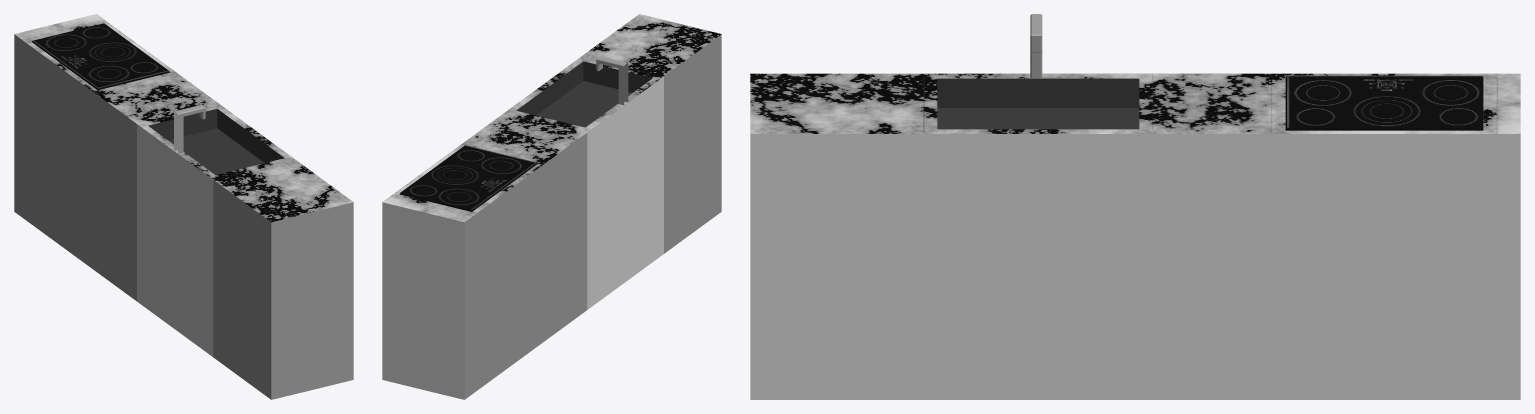
File: kitchen_sink.fbx
The picture shows the model from 3 angles, left to right: view 1: azimuth 30°, elevation 25°; view 2: azimuth 150°, elevation 25°; view 3: azimuth 270°, elevation 25°; orthographic projection. The views are drawn at different scales.
Parts seen in each view (by area): view 1: polySurface322; view 2: polySurface322; view 3: polySurface322.
Part boxes in pixels (x1,y1,x2,y2): polySurface322: [14, 14, 353, 399]; polySurface322: [382, 14, 721, 399]; polySurface322: [750, 14, 1520, 399].
Size of the model in its own units: 0.4856 by 1.23 by 2.63.
Materials: 5 (2 with a texture image).
